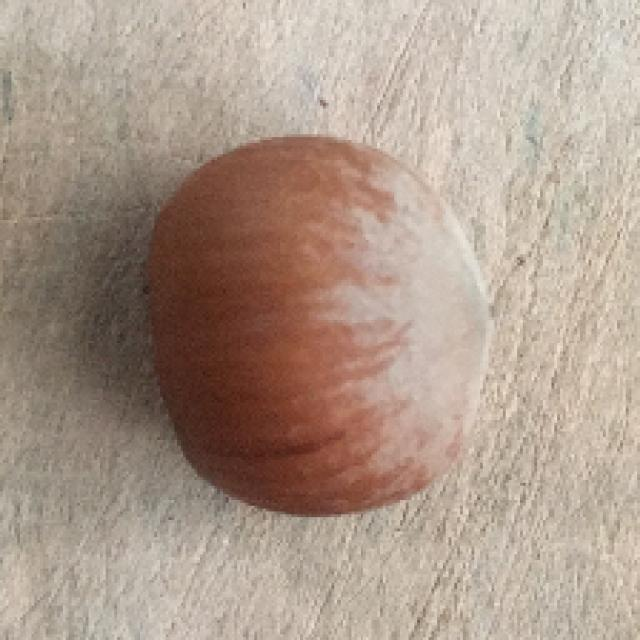qualityHazelnut: (145, 131, 495, 520)
